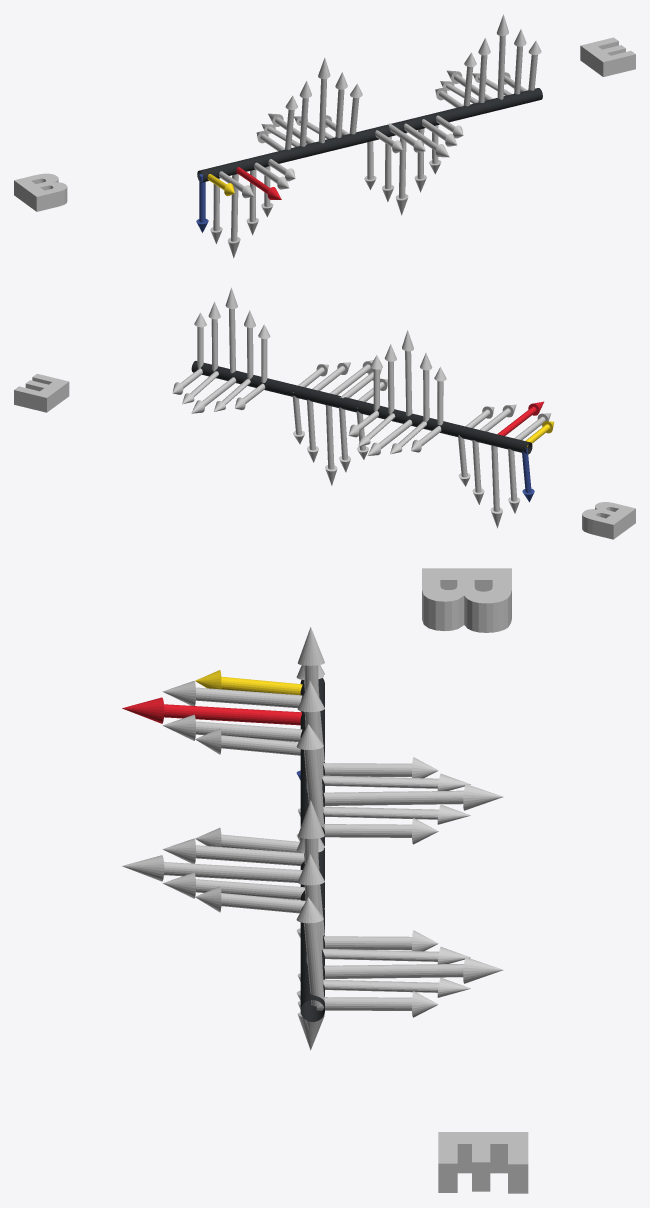
File: tinker 1.obj
The picture shows the model from 3 angles, top to bottom: view 1: azimuth 30°, elevation 25°; view 2: azimuth 150°, elevation 25°; view 3: azimuth 270°, elevation 25°; orthographic projection. The views are drawn at different scales.
Visible parts, largest first — view 1: group_0_2829873, group_0_3895971, group_0_12058394, group_0_10706747, group_0_10715451, group_0_4607671, group_0_3908460, group_0_3902115, group_0_5520291, group_0_10697583, group_0_9675579, group_0_10697540 (+10 smaller); view 2: group_0_2829873, group_0_3895971, group_0_12058394, group_0_10706747, group_0_4607671, group_0_10715451, group_0_3908460, group_0_10697583, group_0_9675579, group_0_3902115, group_0_5520291, group_0_10697540 (+12 smaller); view 3: group_0_3895971, group_0_12058394, group_0_2829873, group_0_1769410, group_0_16718406, group_0_15277357, group_0_16729626, group_0_15604479, group_0_16739098, group_0_1769284, group_0_16722458, group_0_16718589 (+17 smaller).
Boxes of the visible parts, left/top/right/bottom form: group_0_2829873: left=197, top=88, right=542, bottom=182; group_0_3895971: left=14, top=173, right=67, bottom=211; group_0_12058394: left=580, top=37, right=635, bottom=76; group_0_10706747: left=318, top=57, right=330, bottom=143; group_0_10715451: left=497, top=14, right=508, bottom=99; group_0_4607671: left=227, top=174, right=240, bottom=258; group_0_3908460: left=395, top=133, right=408, bottom=215; group_0_3902115: left=335, top=72, right=347, bottom=137; group_0_5520291: left=514, top=29, right=526, bottom=94; group_0_10697583: left=299, top=81, right=311, bottom=146; group_0_9675579: left=478, top=38, right=490, bottom=102; group_0_10697540: left=210, top=178, right=222, bottom=243; group_0_2829873: left=191, top=361, right=532, bottom=454; group_0_3895971: left=582, top=502, right=635, bottom=539; group_0_12058394: left=14, top=373, right=69, bottom=412; group_0_10706747: left=402, top=330, right=413, bottom=416; group_0_4607671: left=490, top=445, right=502, bottom=528; group_0_10715451: left=225, top=287, right=237, bottom=373; group_0_3908460: left=325, top=405, right=337, bottom=485; group_0_10697583: left=420, top=353, right=432, bottom=422; group_0_9675579: left=244, top=310, right=255, bottom=379; group_0_3902115: left=384, top=344, right=396, bottom=414; group_0_5520291: left=208, top=302, right=220, bottom=371; group_0_10697540: left=508, top=448, right=520, bottom=513; group_0_3895971: left=422, top=568, right=511, bottom=632; group_0_12058394: left=438, top=1132, right=528, bottom=1193; group_0_2829873: left=300, top=678, right=324, bottom=1021; group_0_1769410: left=323, top=784, right=503, bottom=810; group_0_16718406: left=324, top=957, right=503, bottom=983; group_0_15277357: left=122, top=697, right=302, bottom=725; group_0_16729626: left=122, top=855, right=302, bottom=882; group_0_15604479: left=162, top=838, right=304, bottom=865; group_0_16739098: left=162, top=681, right=302, bottom=708; group_0_1769284: left=162, top=872, right=304, bottom=899; group_0_16722458: left=162, top=714, right=302, bottom=742; group_0_16718589: left=316, top=991, right=438, bottom=1017.
Size of the model in its own units: 169 by 48.02 by 50.
